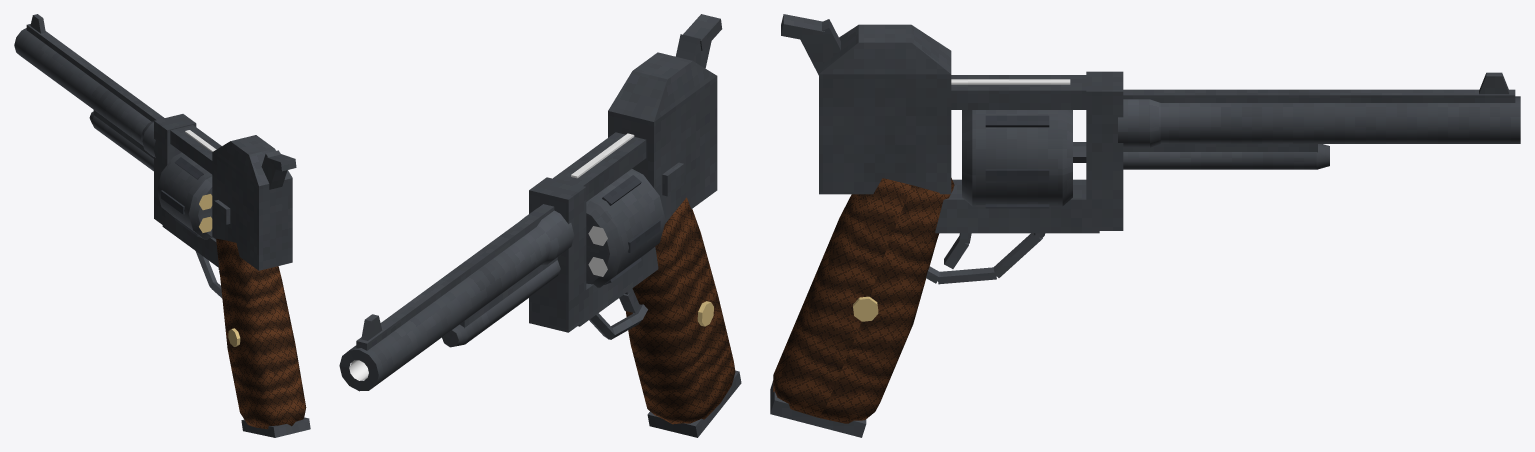
The model's file is item_revolver.glb.
3 renders of one model, left to right at view 1: azimuth 30°, elevation 25°; view 2: azimuth 150°, elevation 25°; view 3: azimuth 270°, elevation 25°, orthographic. The views are drawn at different scales.
Visible parts, largest first — view 1: revolver, cylinder; view 2: revolver, cylinder; view 3: revolver, cylinder.
Part boxes in pixels (x1=…): revolver: x1=14, y1=14, x2=310, y2=437; cylinder: x1=157, y1=152, x2=212, y2=239; revolver: x1=339, y1=14, x2=741, y2=437; cylinder: x1=586, y1=169, x2=665, y2=287; revolver: x1=770, y1=14, x2=1520, y2=437; cylinder: x1=962, y1=110, x2=1086, y2=208.
Bounding box in the file's own units: 0.042 × 0.1694 × 0.2833.
Materials: 5 (5 with a texture image).
